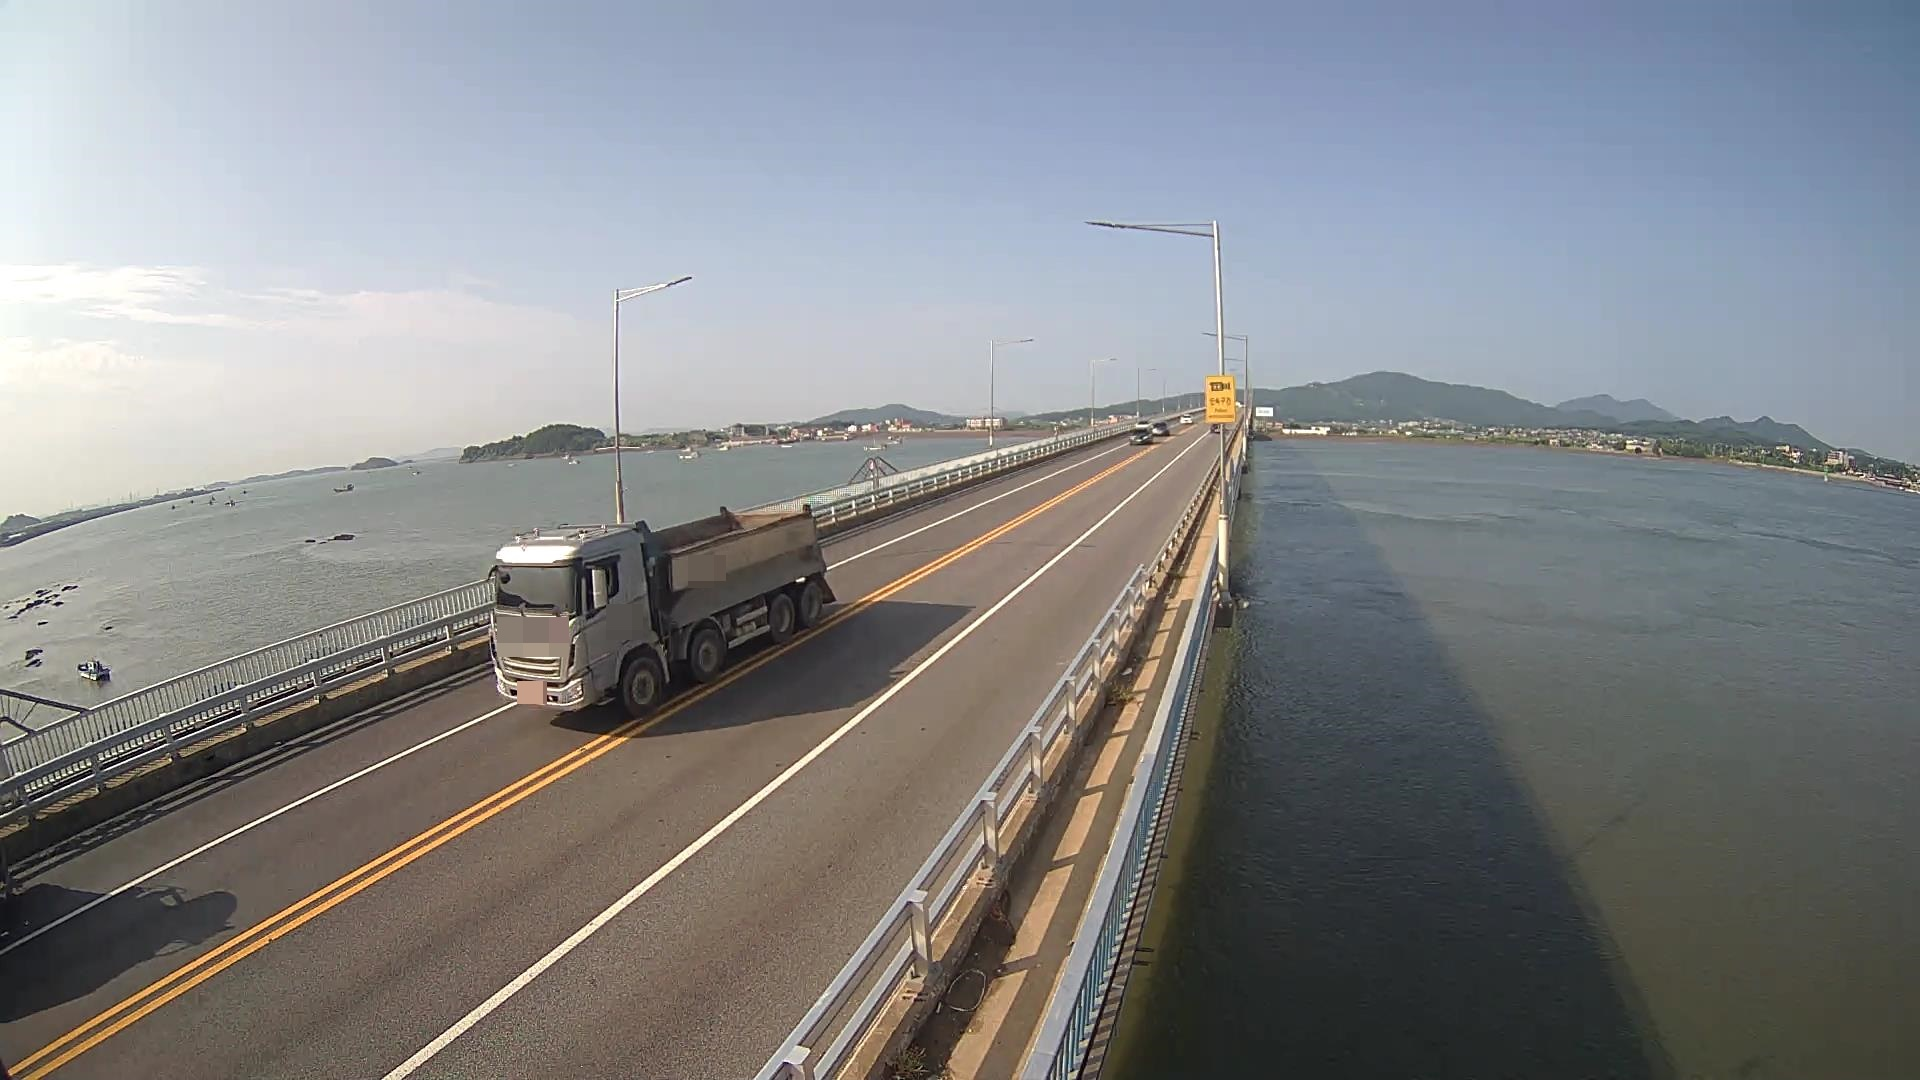정상차량: (488, 503, 838, 718)
